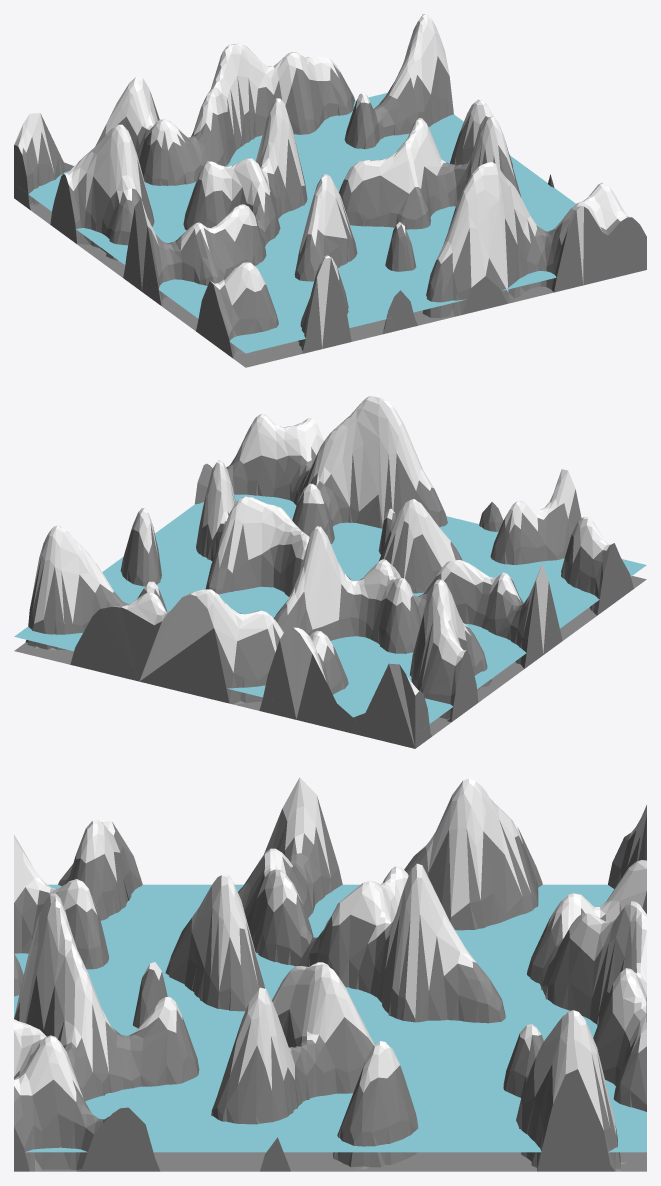
The model's file is MountainLevel.fbx.
3 renders of one model, top to bottom at view 1: azimuth 30°, elevation 25°; view 2: azimuth 150°, elevation 25°; view 3: azimuth 270°, elevation 25°, orthographic. The views are drawn at different scales.
Visible parts, largest first — view 1: Mountains, Water; view 2: Mountains, Water; view 3: Mountains, Water.
Part boxes in pixels (x1,y1,x2,y2): Mountains: (14,14,646,367); Water: (28,93,575,353); Mountains: (14,396,646,748); Water: (14,494,646,723); Mountains: (14,777,646,1171); Water: (14,884,646,1152).
Size of the model in its own units: 7501 by 2354 by 7501.
